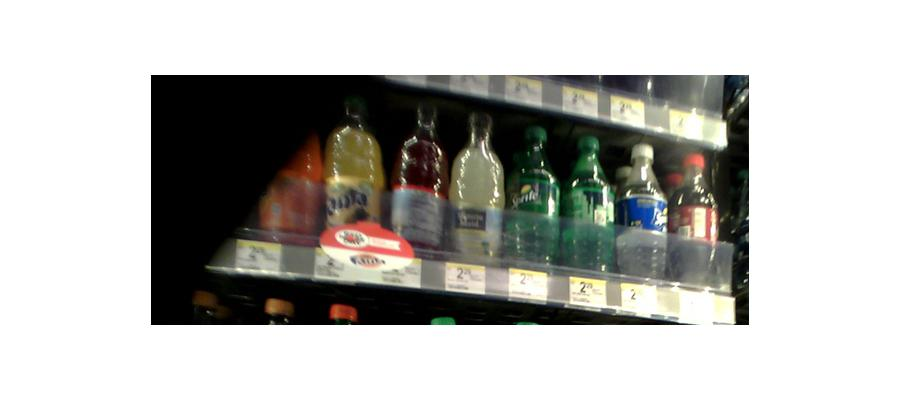bottle: (323, 97, 385, 248), (449, 109, 502, 264), (391, 106, 445, 253), (505, 122, 559, 266), (561, 135, 615, 272), (671, 147, 721, 288), (617, 139, 666, 281), (266, 114, 318, 244)
